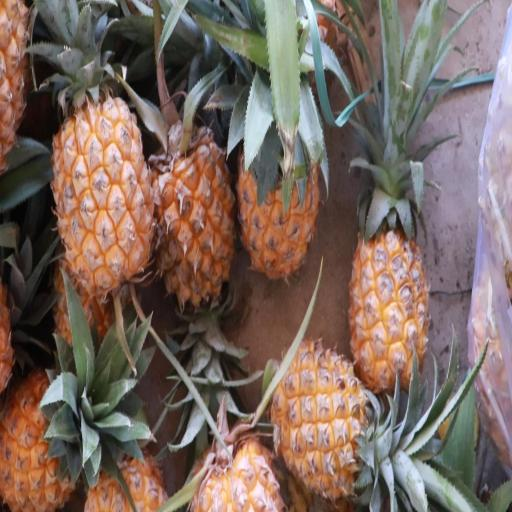Pineapple - v8 v1: (46, 65, 158, 298), (343, 153, 430, 395), (142, 109, 236, 312), (270, 338, 382, 503), (235, 83, 322, 286), (0, 358, 89, 509)
